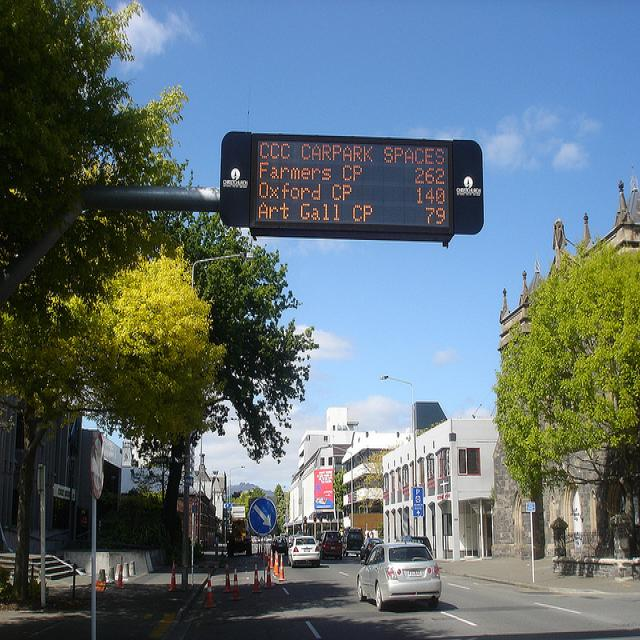Vehicle: (354, 544, 442, 613), (288, 536, 320, 568), (342, 526, 366, 559), (318, 530, 342, 560), (360, 539, 384, 561), (404, 536, 434, 552), (271, 536, 288, 556), (252, 536, 258, 544)
